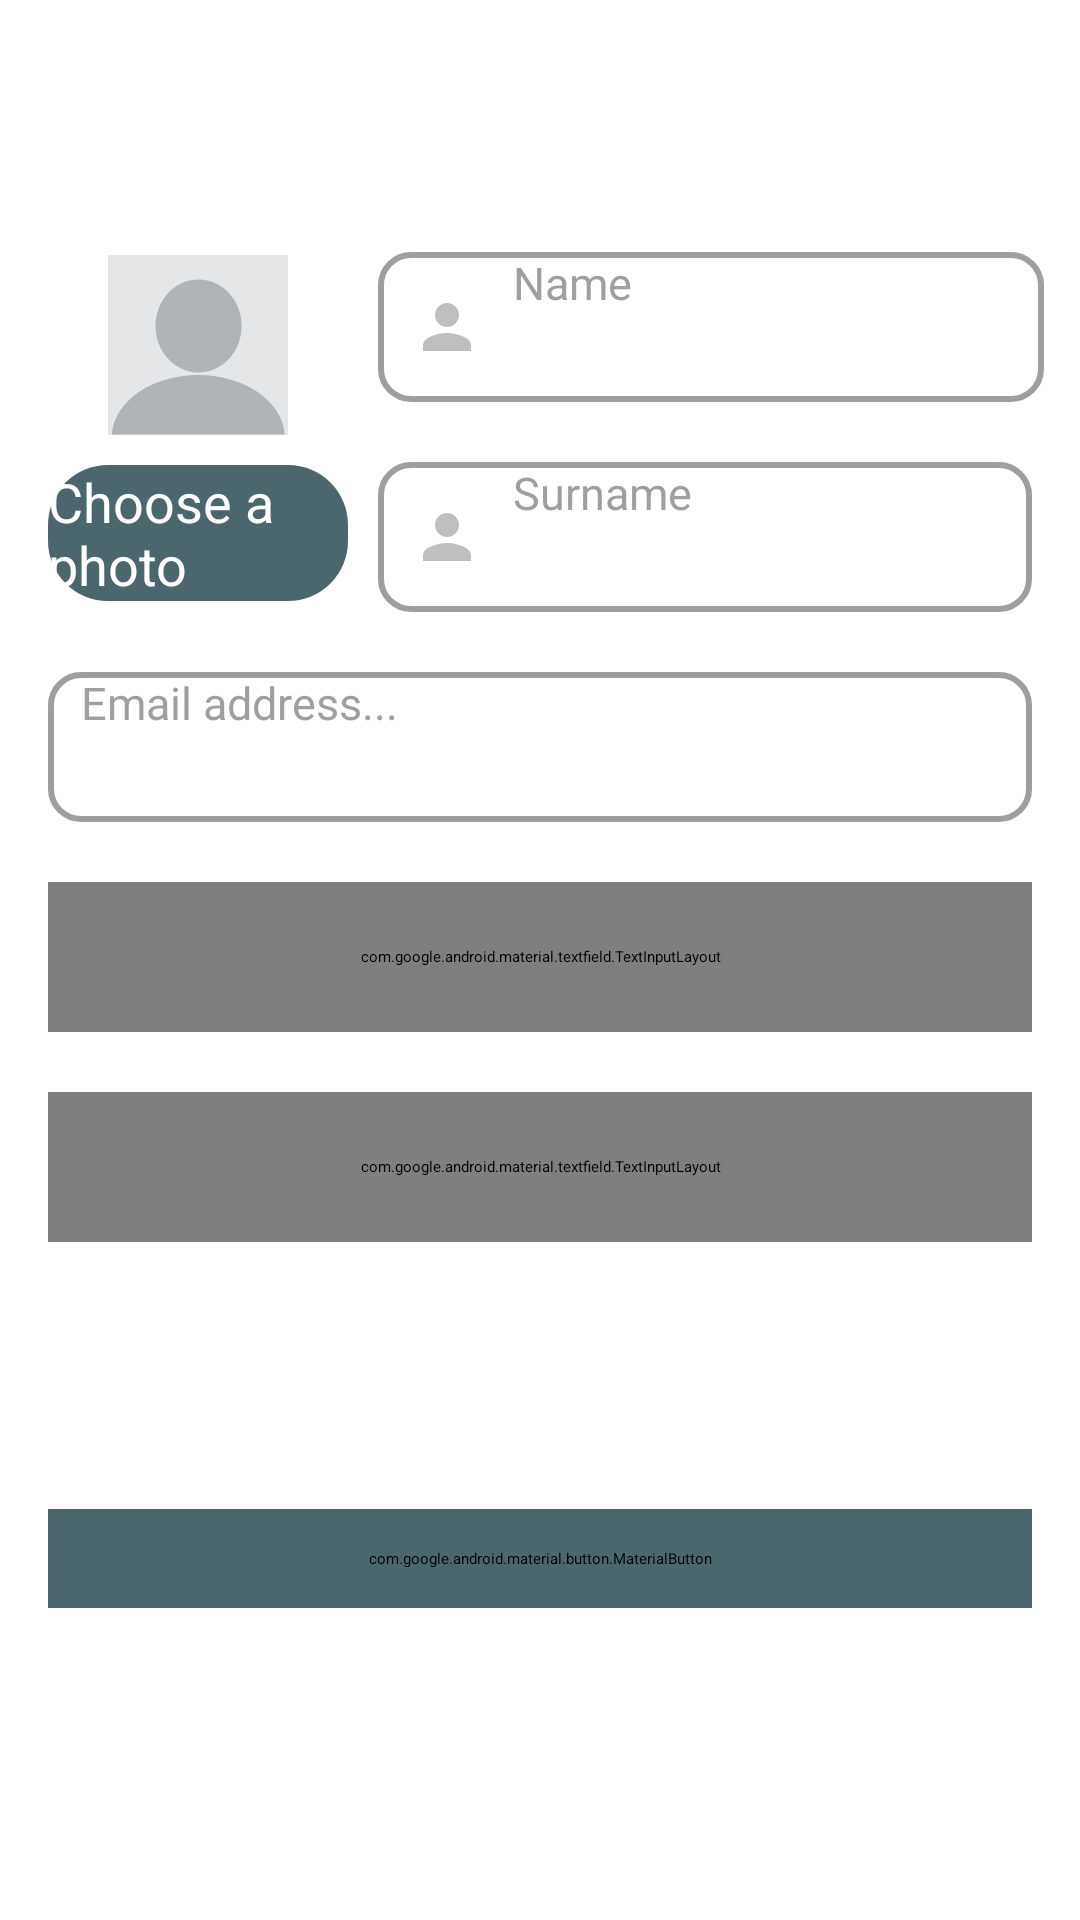

Screen size 1080×1920. Icon name, then its center in pixels as (x,y):
blank profile: (198,345)
